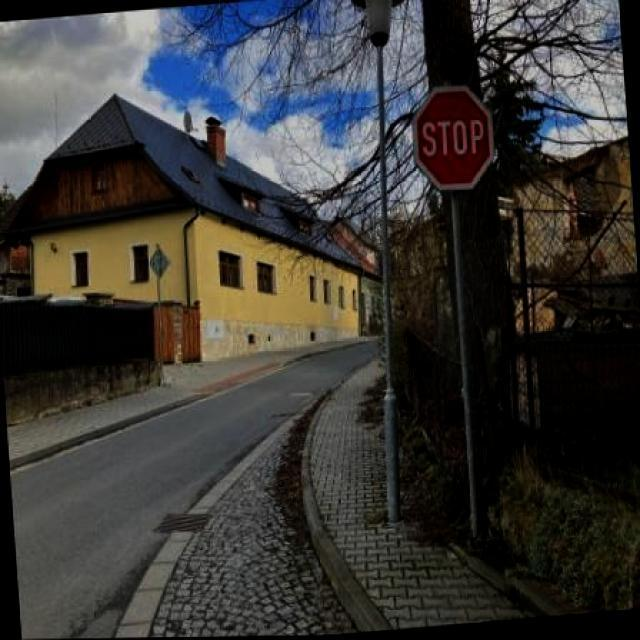Stop-Sign: (415, 86, 494, 190)
